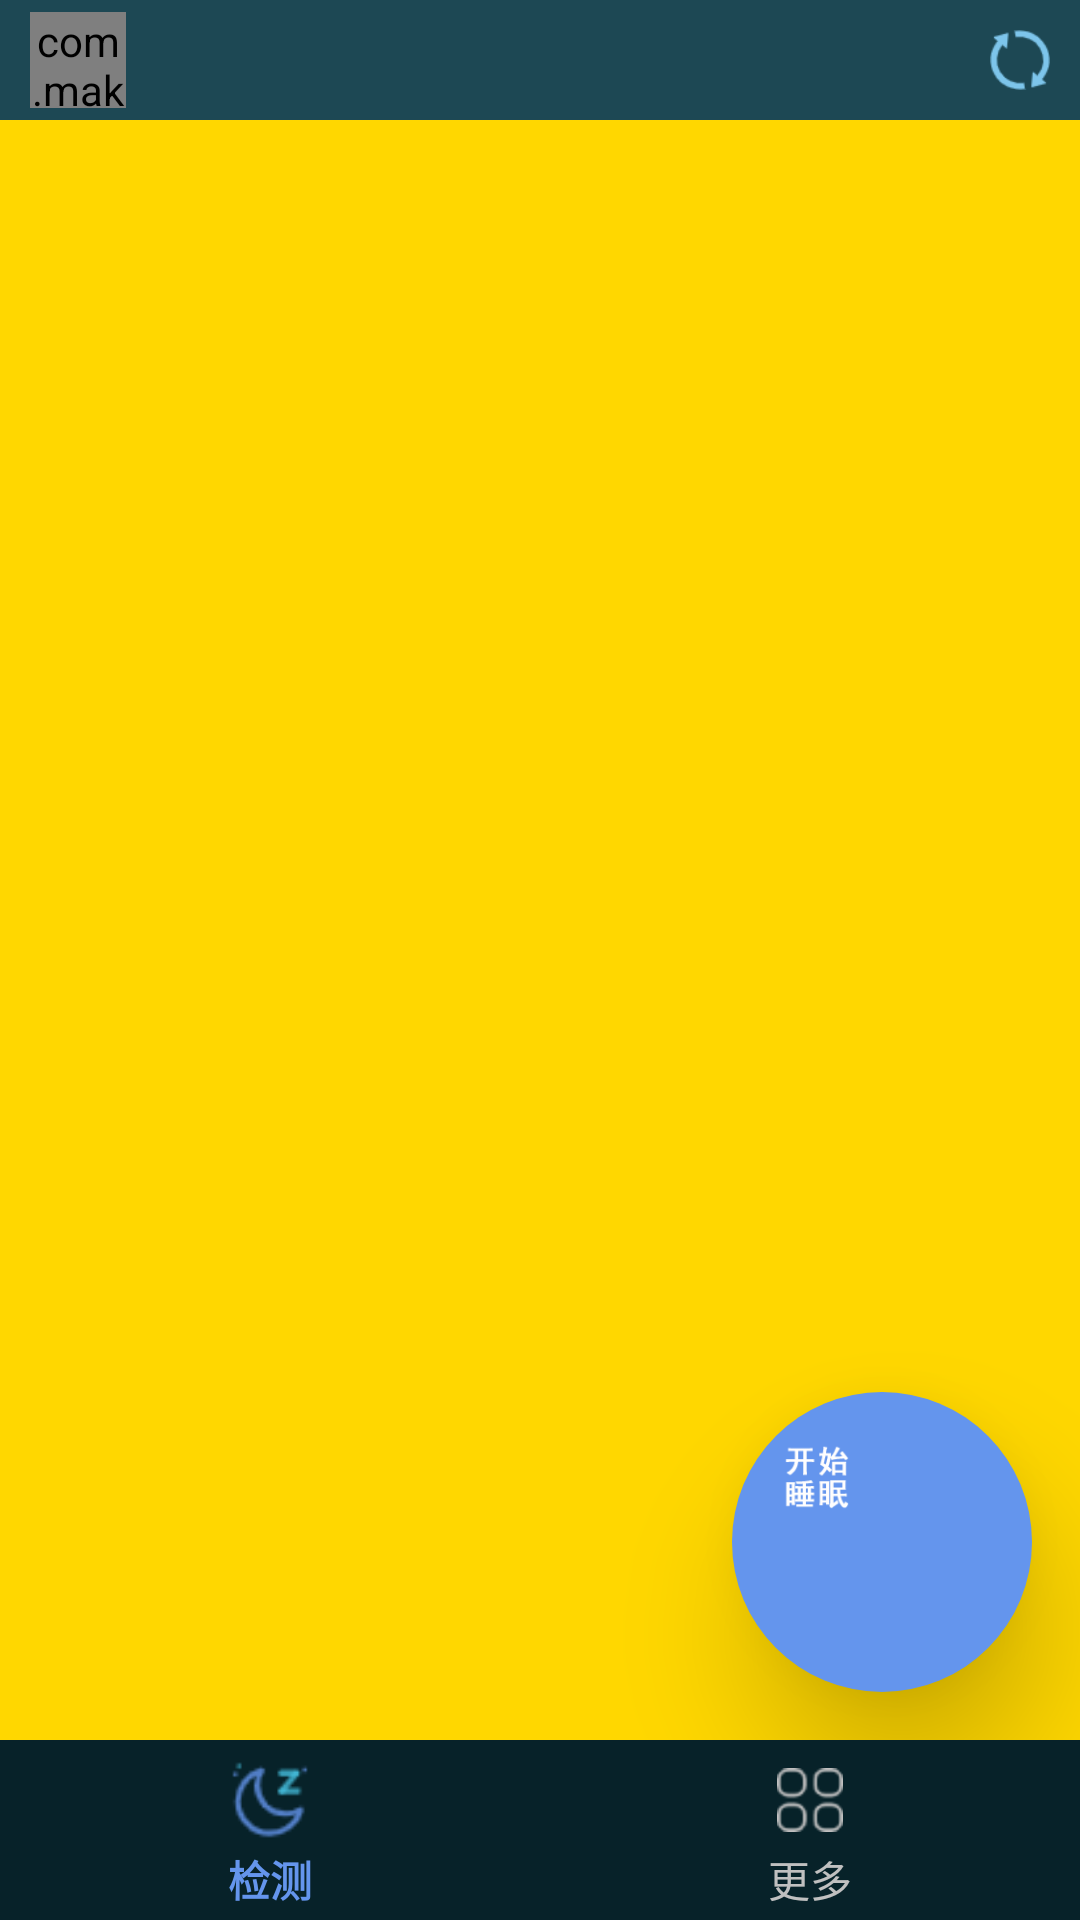

Icons on this 1080*1920 Android screen, each with its box as rect(x1, y1, x2, y2):
moon: rect(233, 1763, 308, 1837)
refresh: rect(990, 30, 1050, 90)
